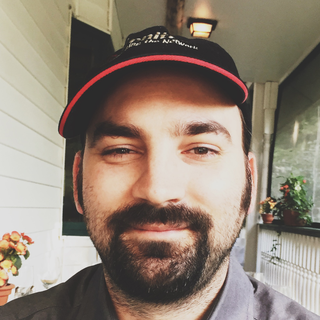eye: (177, 136, 228, 165), (96, 141, 151, 166)
